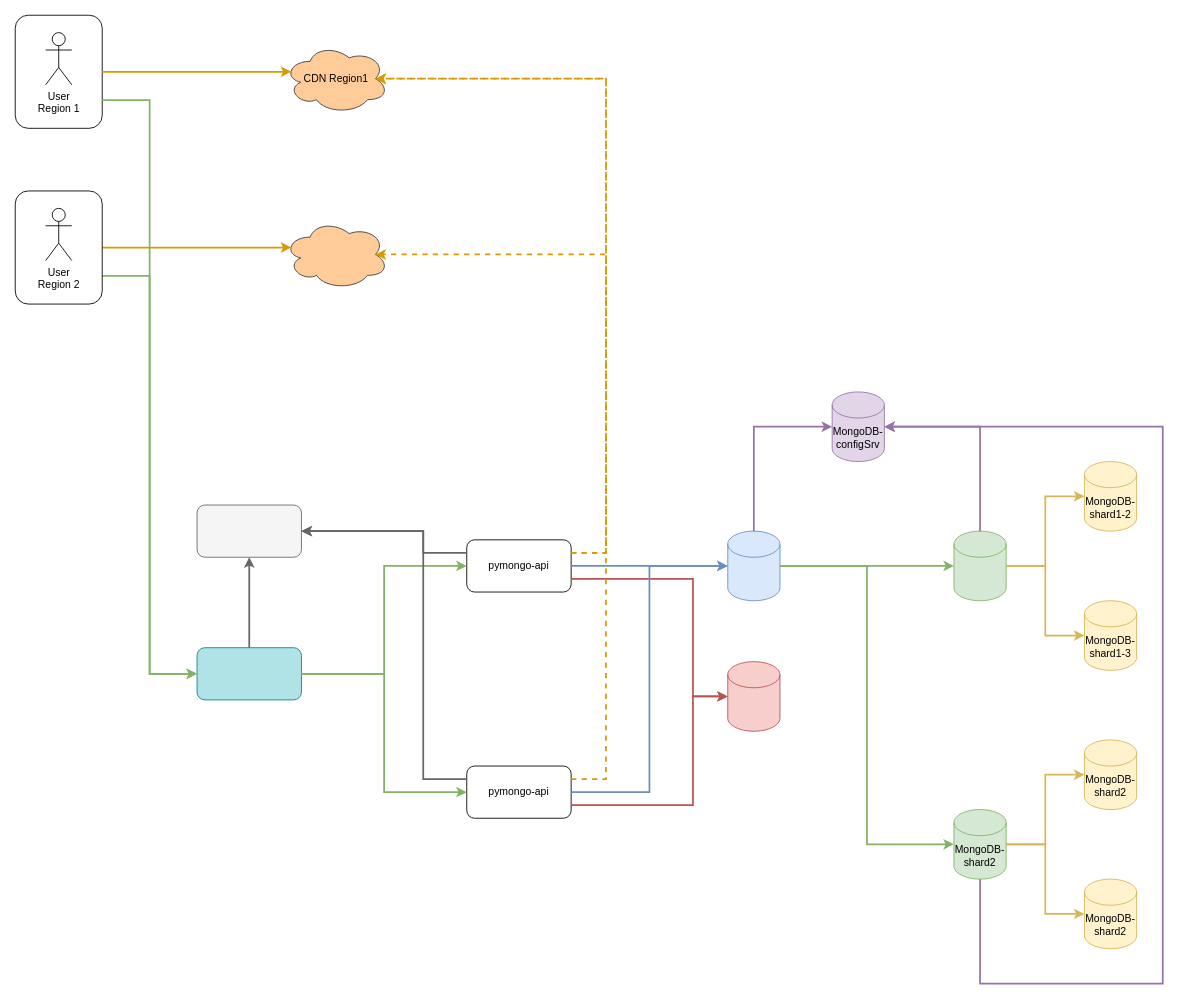
Some shapes in this 1186 by 1007 pixel diagram are drawn without their labels. The centre of each missing label's shape, as x and y in pixels:
API Gateway: point 248,673
CDN Region 2: point 335,254
Consul: point 248,530
MongoDB-router: point 753,565
MongoDB-shard1-1: point 979,565
Redis: point 753,696
